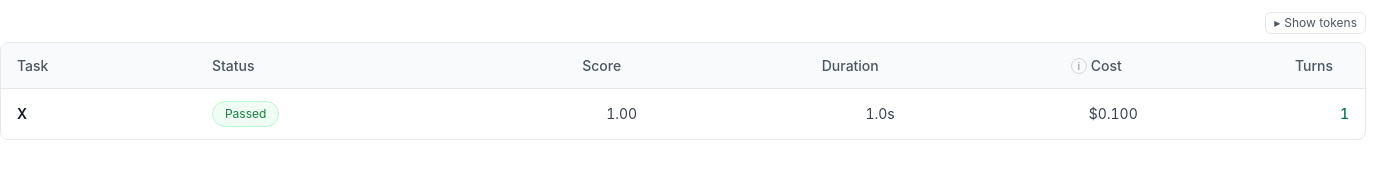
TaskGrid — column help popover › opening one column's help closes another's
This screenshot has width=1378, height=172.
Click the button "▸ Show tokens": (1316,23) [1265,12,1366,34]
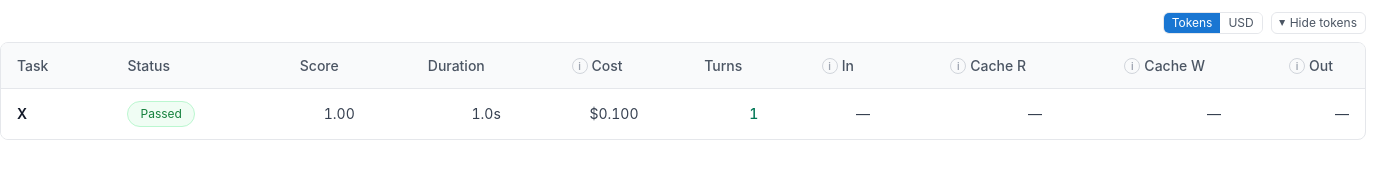
Click the button named "What is Out": (1297,66) [1289,58,1305,74]
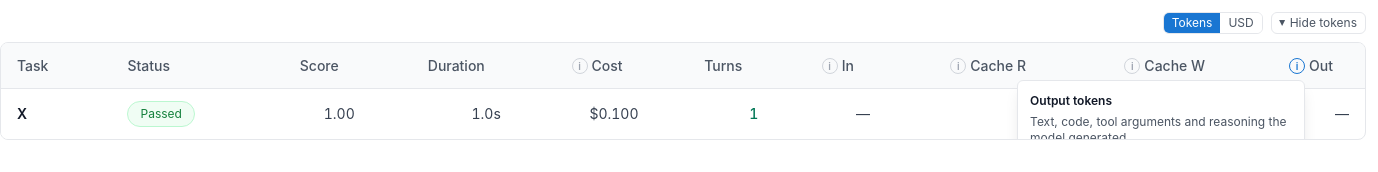
Result: the tooltip shows "Output tokens" at [1030,93,1112,108]
Click the button named "What is Cache R": (958,66) [950,58,966,74]
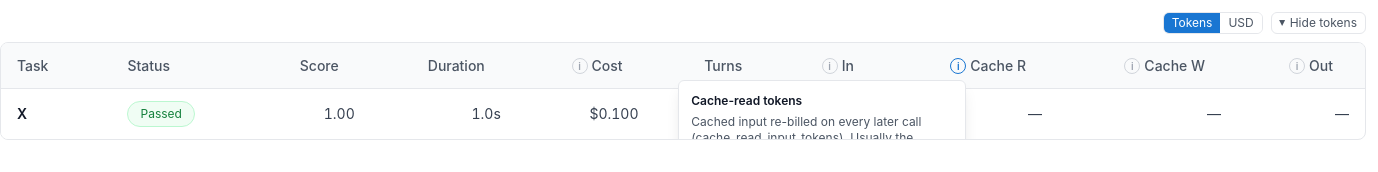
Result: the tooltip shows "Cache-read tokens" at [691,93,802,108]
